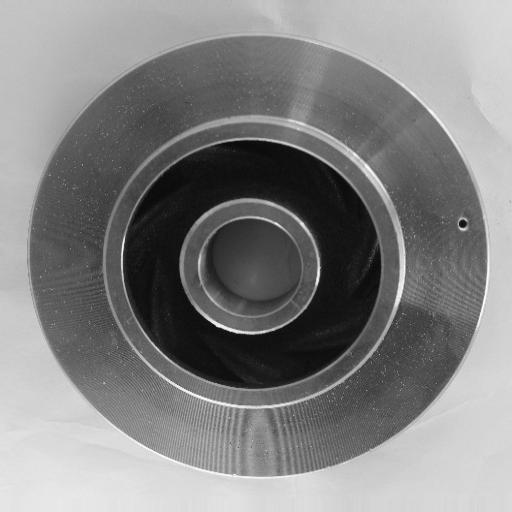pit: (445, 209, 478, 240)
unpolished_casting: (23, 35, 488, 480)
